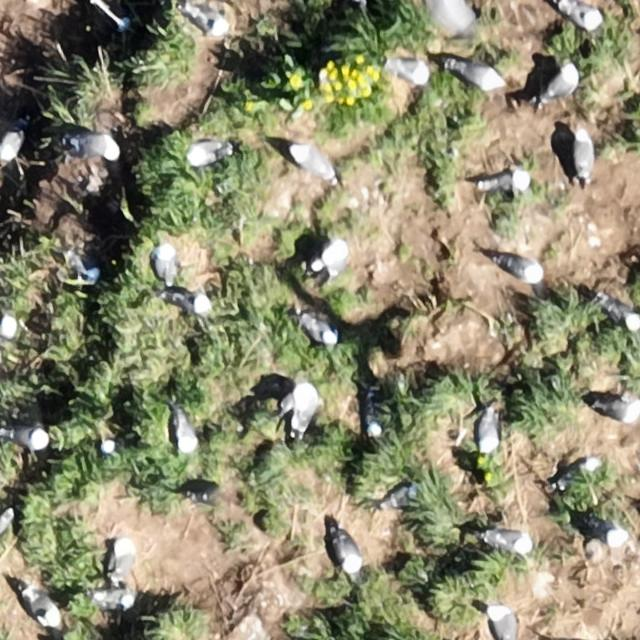umineko: (278, 380, 322, 446), (290, 148, 336, 180), (108, 535, 138, 581), (190, 6, 234, 36), (390, 54, 434, 84), (455, 63, 504, 88), (545, 64, 578, 99), (498, 257, 542, 282), (595, 398, 640, 422), (74, 136, 118, 159), (486, 531, 534, 552), (336, 533, 361, 573), (316, 242, 346, 275), (28, 592, 58, 624), (165, 292, 210, 313), (563, 5, 601, 29), (607, 300, 639, 328), (188, 142, 225, 166), (575, 133, 594, 179), (304, 317, 334, 346), (11, 427, 48, 450), (491, 608, 517, 640), (482, 171, 524, 190), (479, 413, 499, 452), (598, 522, 630, 546), (177, 416, 197, 452), (75, 254, 99, 283), (383, 487, 414, 509), (156, 247, 174, 280), (0, 130, 18, 160), (366, 402, 382, 435), (0, 313, 16, 338), (0, 508, 10, 536)
